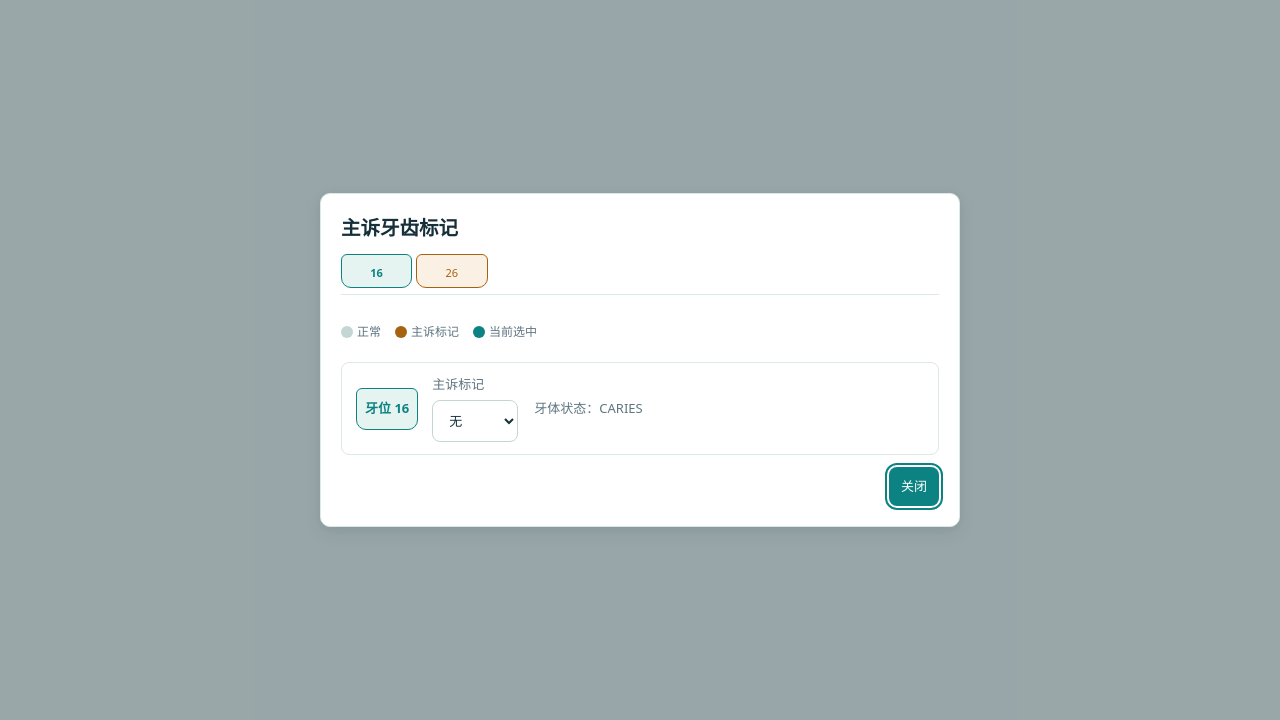
Test: TeethMarkDialog › updates a chief mark and reloads
This screenshot has width=1280, height=720.
Select "横向做" in the dropdown named "牙齿 16 主诉标记": (475, 421) top-left (432, 400), bottom-right (518, 442)
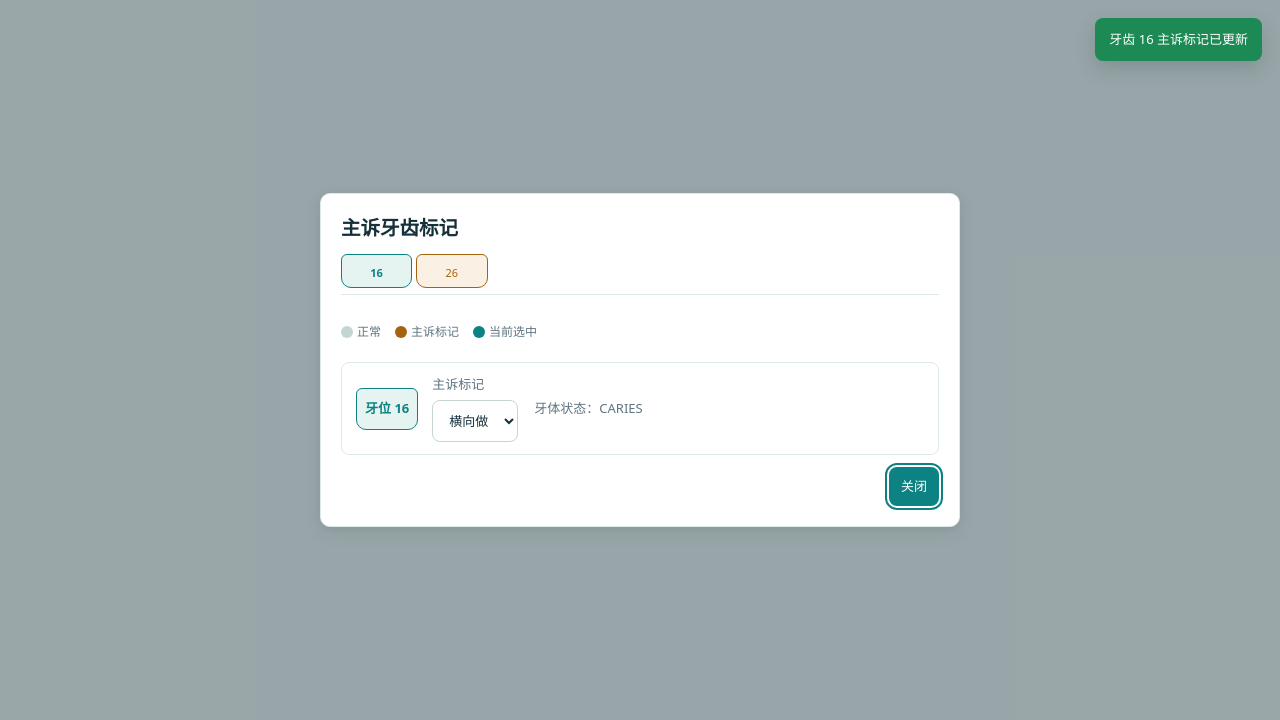
expect the text "牙齿 16 主诉标记已更新" is shown: met, box top-left (1095, 18), bottom-right (1262, 61)
